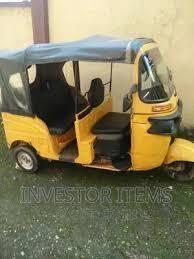keke: (0, 34, 194, 182)
